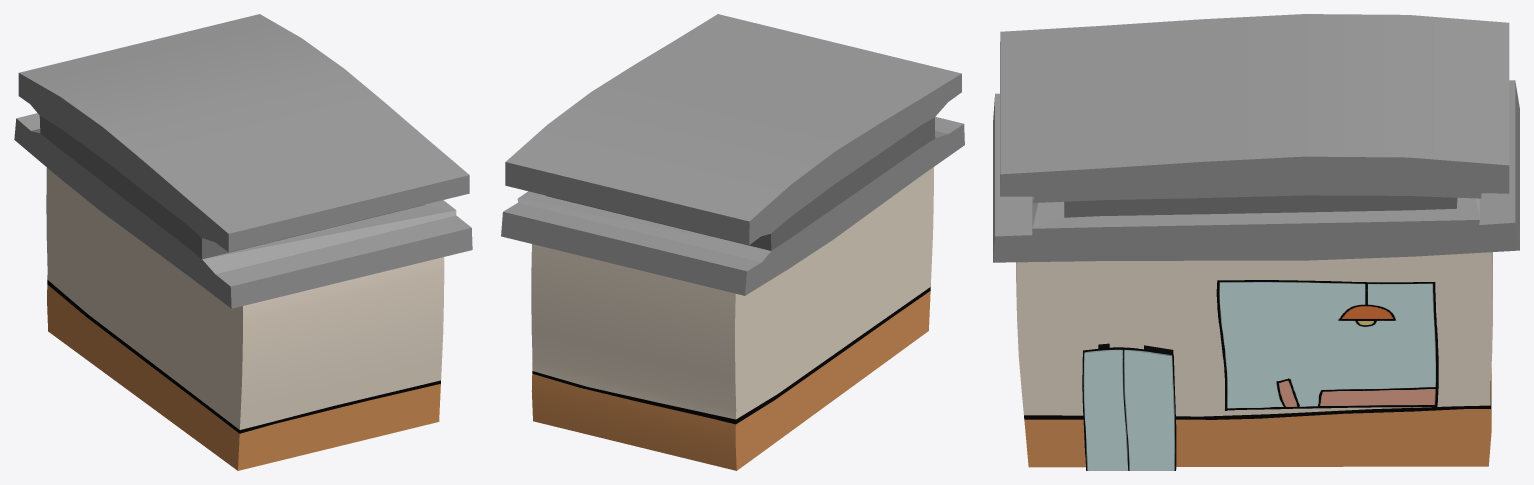
Rendered from Building No 1.fbx.
The picture shows the model from 3 angles, left to right: view 1: azimuth 30°, elevation 25°; view 2: azimuth 150°, elevation 25°; view 3: azimuth 270°, elevation 25°; orthographic projection. The views are drawn at different scales.
Visible parts, largest first — view 1: Roof 2, Building 2; view 2: Roof 2, Building 2; view 3: Roof 2, Building 2, Plane.001, Plane.
Boxes of the visible parts, x1,y1,x2,y2 form: Roof 2: [14, 14, 472, 308]; Building 2: [46, 168, 444, 470]; Roof 2: [501, 14, 964, 295]; Building 2: [531, 167, 933, 470]; Roof 2: [993, 14, 1519, 262]; Building 2: [1016, 252, 1492, 467]; Plane.001: [1216, 280, 1438, 410]; Plane: [1082, 343, 1176, 470].
Size of the model in its own units: 240 by 252 by 374.
